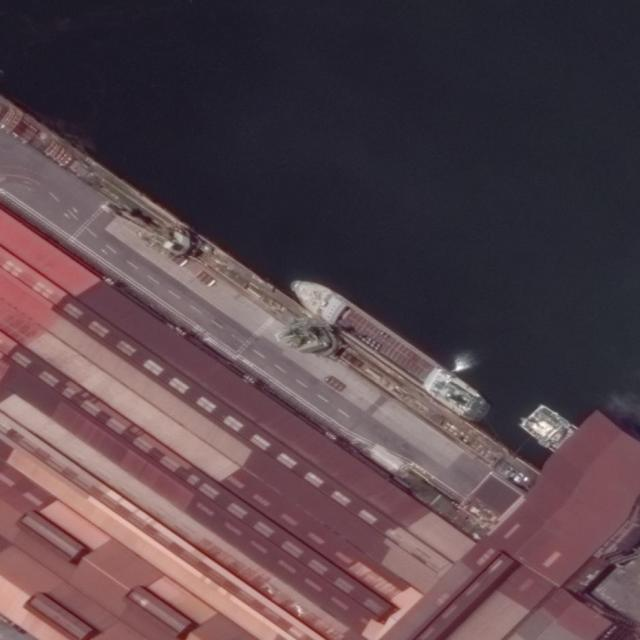Cargo: (282, 264, 498, 429)
